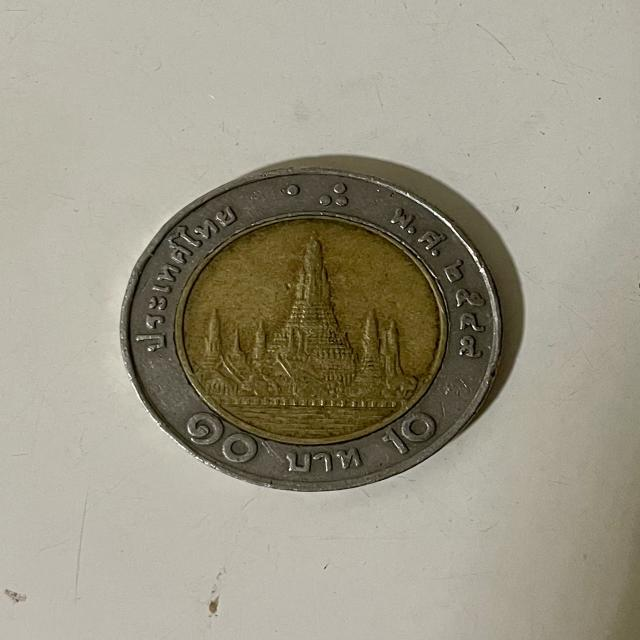10 Bath: (113, 160, 517, 503)
